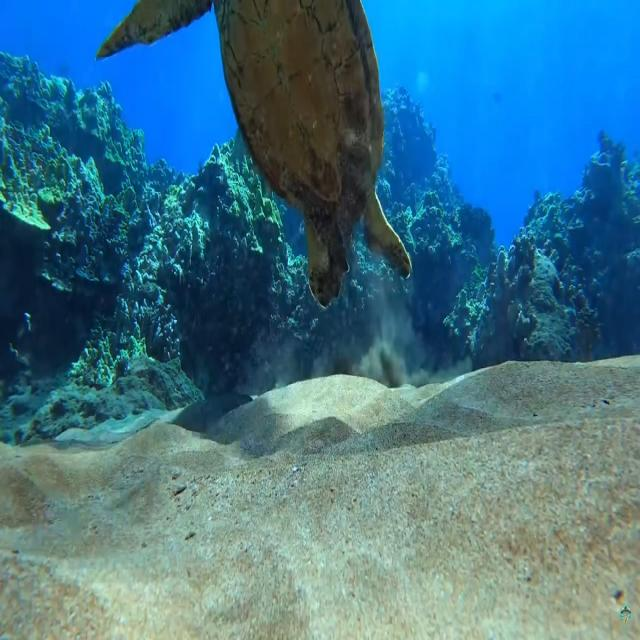Sea turtle: (94, 0, 414, 310)
